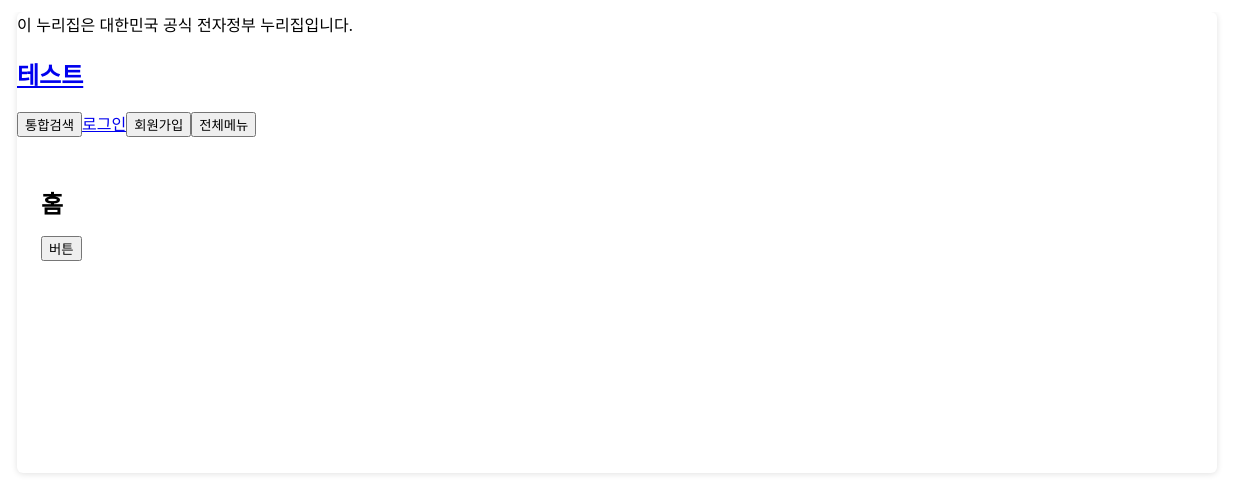
캔버스 인스턴스 조작 › 선택했을 때만 조작 툴바가 보인다
The width and height of the screenshot is (1235, 492).
Click the button named "버튼 선택". click: (617, 248)
box: left=41, top=236, right=1193, bottom=261
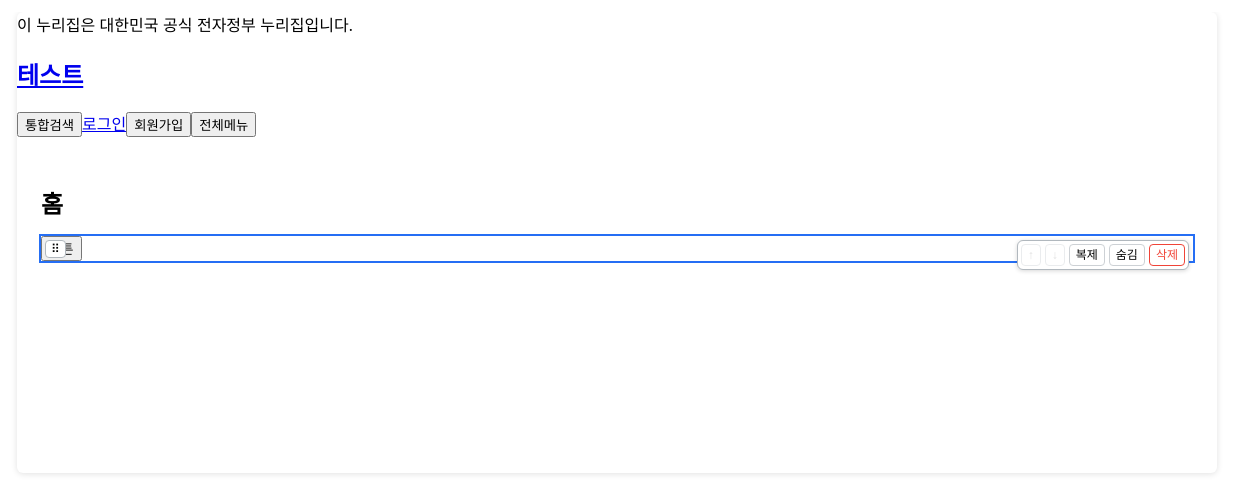
expect the button with aria-label "버튼 삭제" is shown: met, box left=1149, top=244, right=1185, bottom=266
